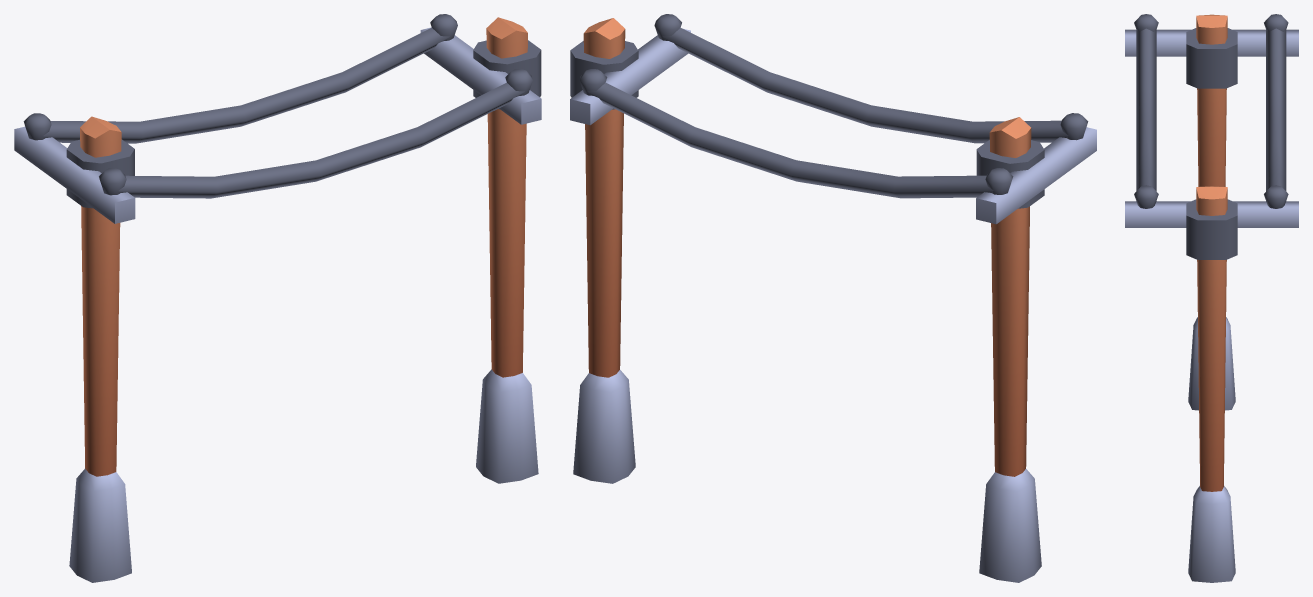
The model's file is electricity-pole.glb.
3 renders of one model, left to right at view 1: azimuth 30°, elevation 25°; view 2: azimuth 150°, elevation 25°; view 3: azimuth 270°, elevation 25°, orthographic. The views are drawn at different scales.
Parts seen in each view (by area): view 1: electricity-pole; view 2: electricity-pole; view 3: electricity-pole.
Part boxes in pixels (x1,y1,x2,y2): electricity-pole: [14, 14, 541, 582]; electricity-pole: [570, 14, 1096, 582]; electricity-pole: [1125, 14, 1298, 582].
Bounding box in the file's own units: 0.5791 × 0.525 × 0.2142.
1 material, 1 textured.
